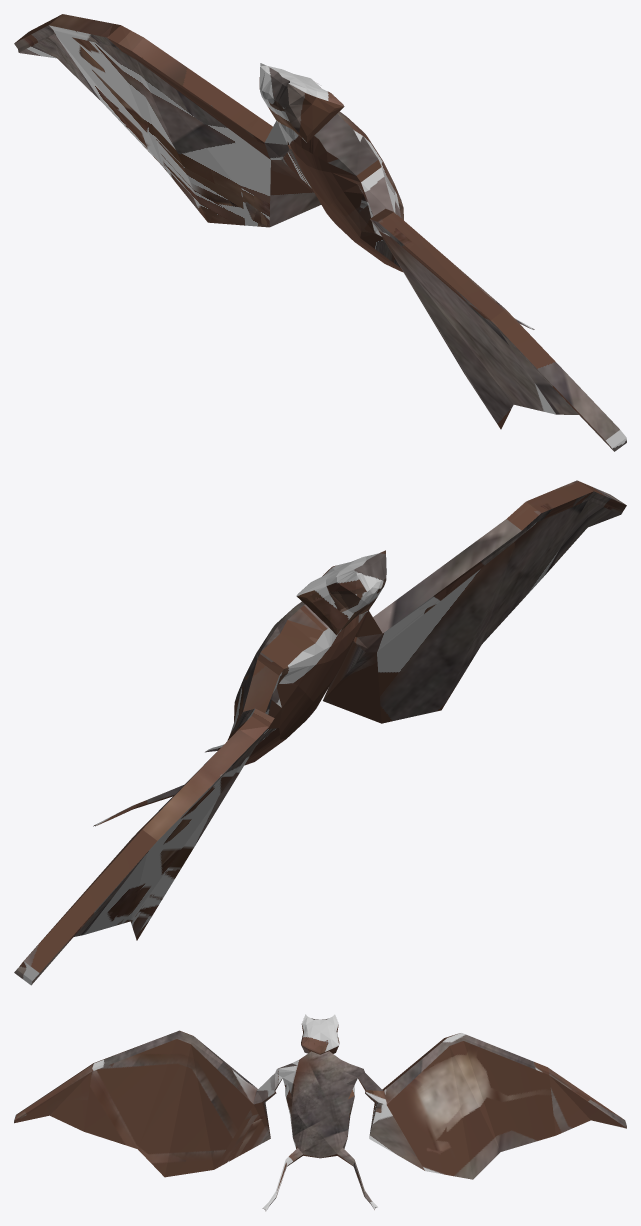
Rendered from Enemigo115.obj.
The picture shows the model from 3 angles, top to bottom: view 1: azimuth 30°, elevation 25°; view 2: azimuth 150°, elevation 25°; view 3: azimuth 270°, elevation 25°; orthographic projection. The views are drawn at different scales.
Visible parts, largest first — view 1: Plano; view 2: Plano; view 3: Plano.
Boxes of the visible parts, x1,y1,x2,y2 form: Plano: [14, 14, 626, 451]; Plano: [14, 480, 626, 985]; Plano: [14, 1014, 626, 1211].
Size of the model in its own units: 0.5553 by 0.5874 by 2.24.
1 material, 1 textured.
